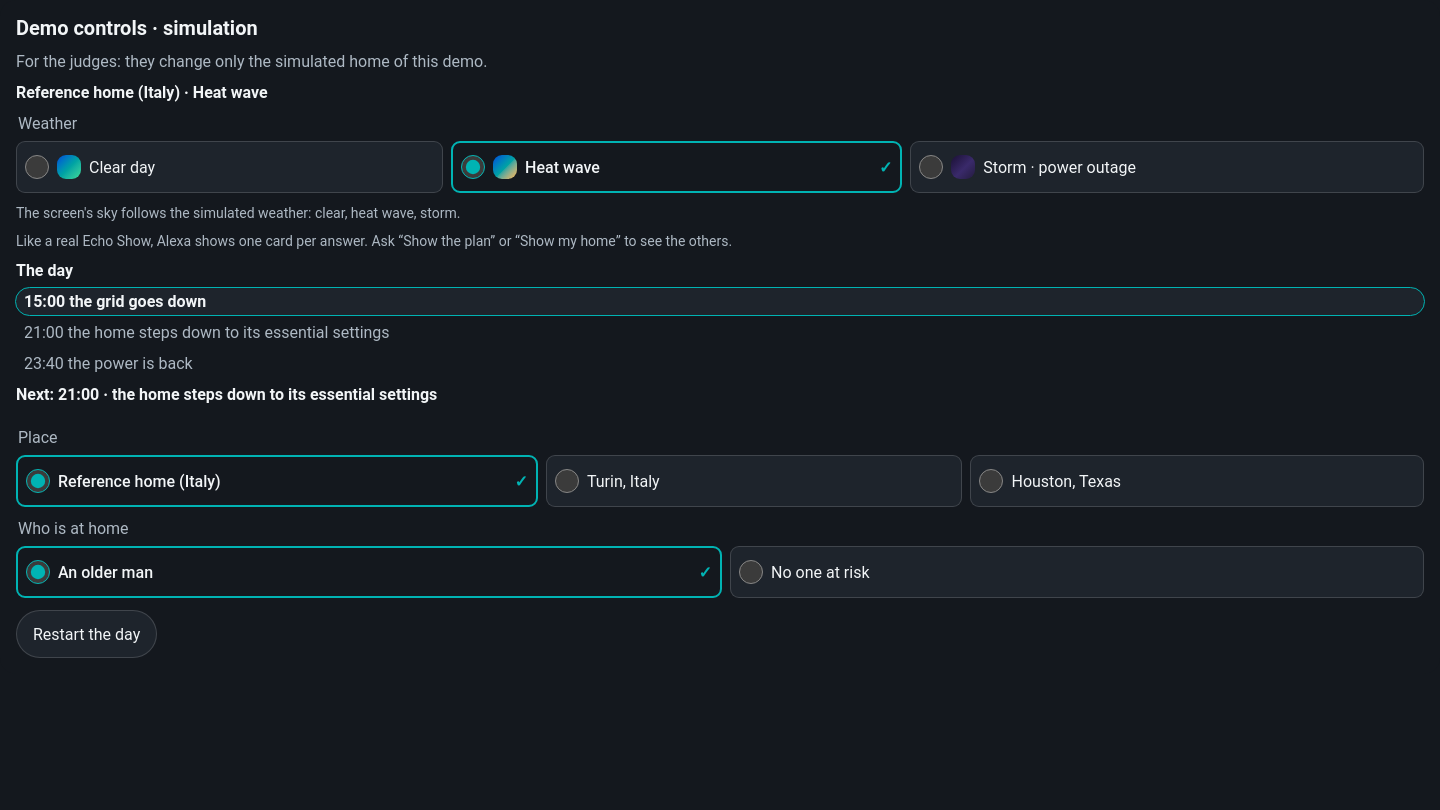
Test: DemoControlsPanel while a change is saved › a change that throws gives the panel back with a visible line, the choice as it was
This screenshot has width=1440, height=810.
Click the radio button labelled "Turin, Italy" at (567, 481), box [555,469,579,493]
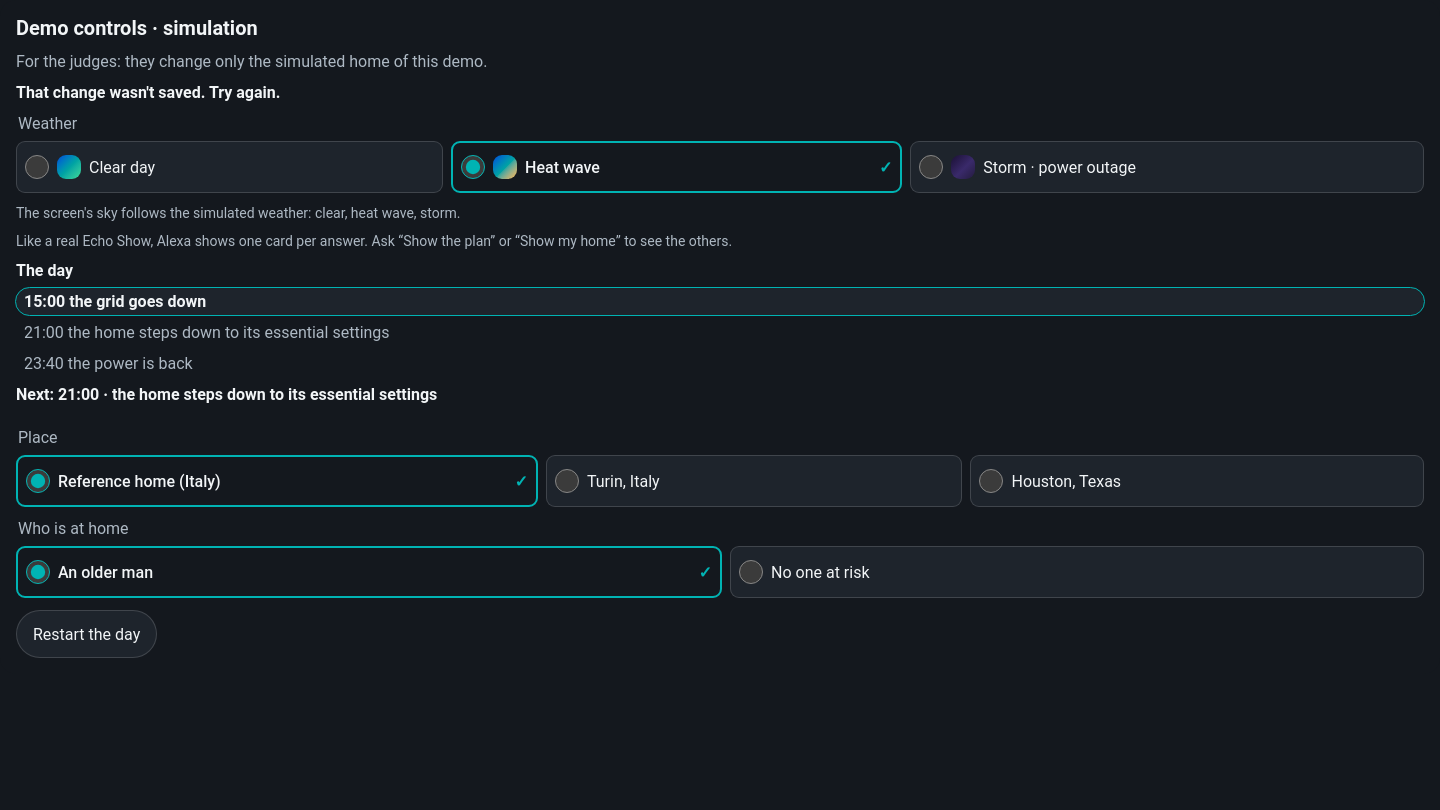
Expected: the radio button labelled "Reference home (Italy) ✓" is checked, [26,469,50,493]
Now the text "That change wasn't saved. Try again." is shown, box [16,83,280,102]
